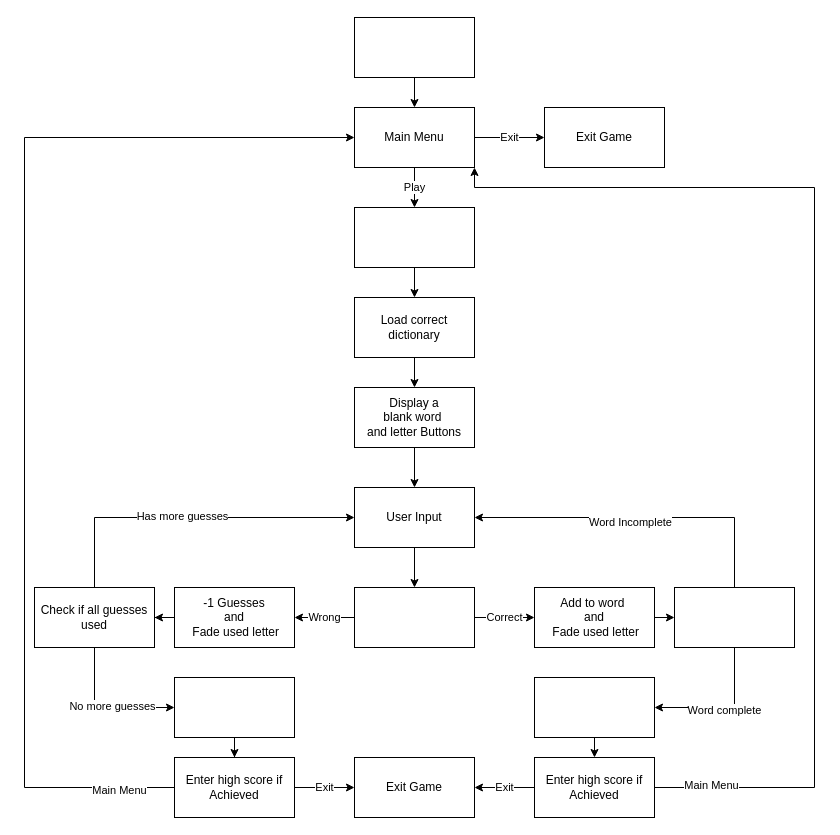
Image size: 840x835. Some labels were removed from this diagram. Here are the shapes that lost their labels. From the top down, the centre of each, then its label:
At pixel 414 47: "Start Game".
At pixel 414 237: "Difficulty Select".
At pixel 414 617: "Check Letter Choice".
At pixel 734 617: "Check if word completed".
At pixel 234 707: "Show Fail Screen".
At pixel 594 707: "Show Win Screen".
